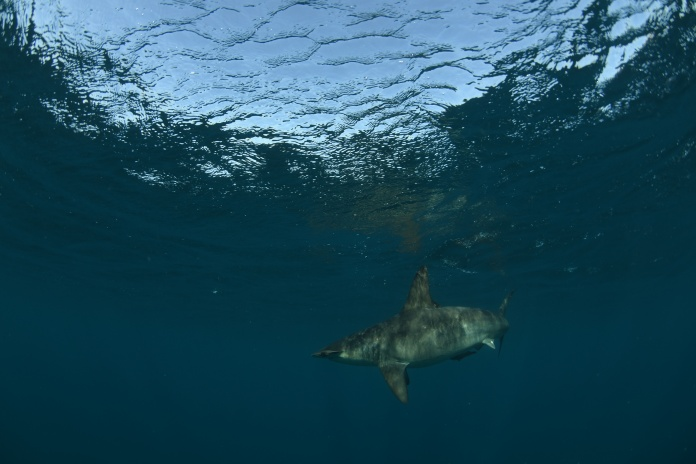Hammer: (298, 256, 537, 422)
